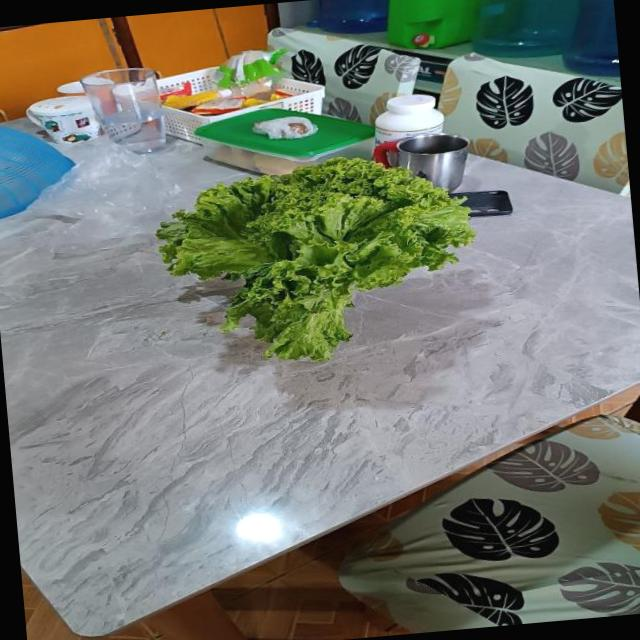Lettuce-Ready-to-Harvest: (157, 157, 473, 359)
